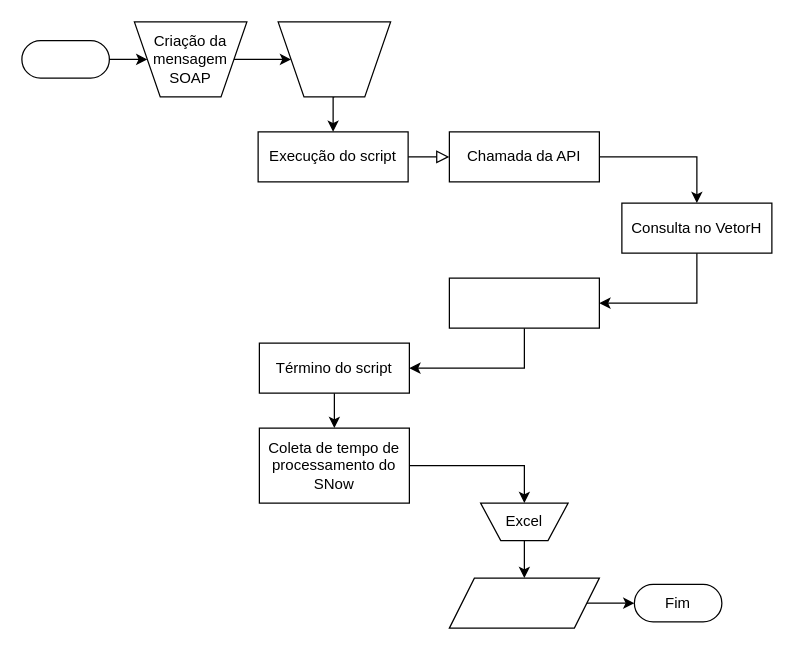
The diagram is 794 pixels wide and 650 high, and some of its shapes have lost their labels. Each missing label, with the box of its shape:
Comparativo: (448, 577, 599, 628)
Criação do Fix Script: (277, 21, 391, 97)
Início: (21, 39, 109, 78)
Retorno da API: (448, 277, 599, 328)
